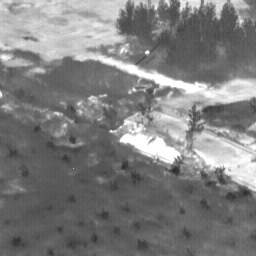aircraft: (146, 52, 148, 54)
